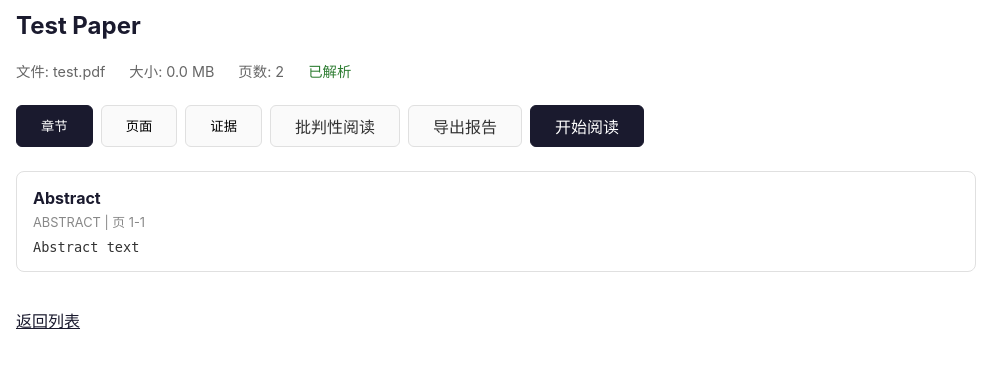
it: PaperDetailView › highlight mismatch: degraded notice shown, no mark
The width and height of the screenshot is (993, 384).
Click the button "证据".
click(224, 126)  # box [185, 105, 262, 147]
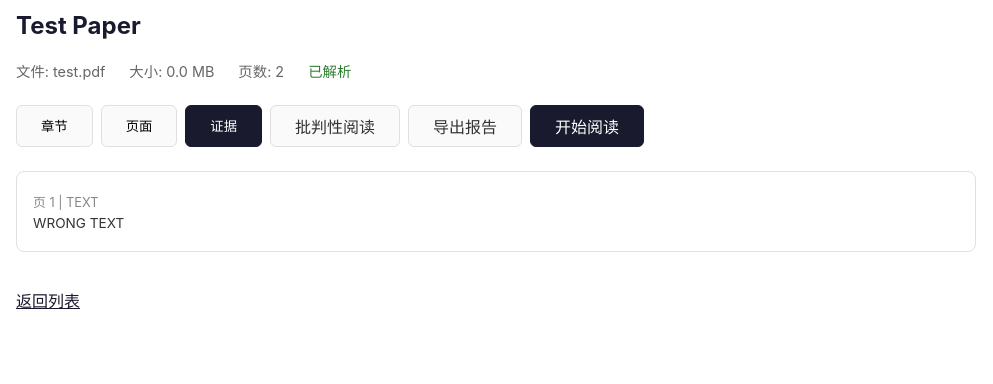
Click the element with class "evidence-item".
click(496, 211)  # box [16, 171, 976, 252]
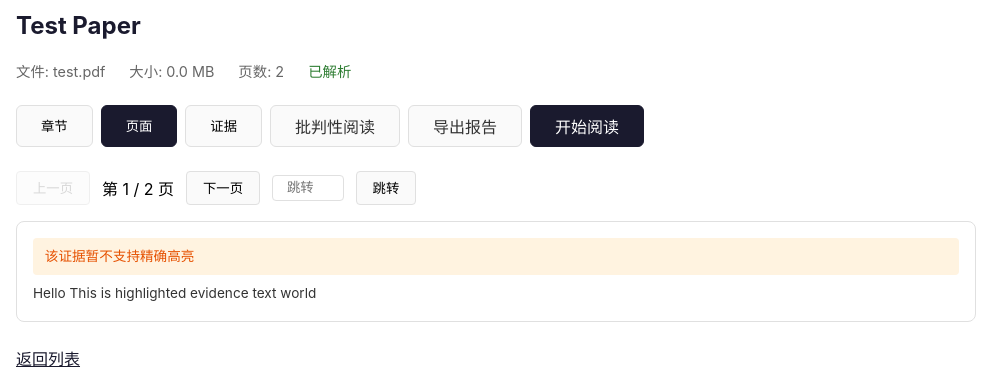
Check: the text "该证据暂不支持精确高亮" is shown, box [33, 238, 959, 276]
